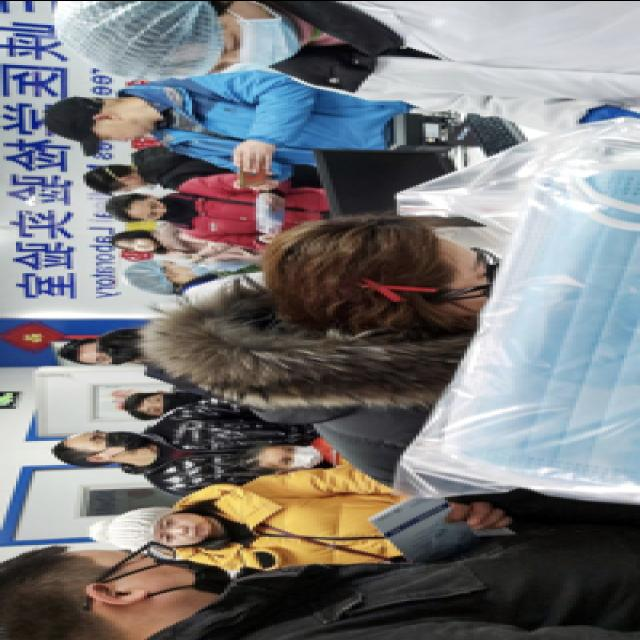with_mask: (195, 12, 301, 74), (102, 546, 230, 596), (80, 428, 141, 454), (269, 442, 323, 468), (141, 390, 189, 414), (140, 195, 186, 219), (90, 341, 134, 363), (157, 258, 205, 276), (115, 179, 157, 192)
without_mask: (154, 510, 212, 546), (92, 118, 150, 140), (122, 237, 156, 251)
